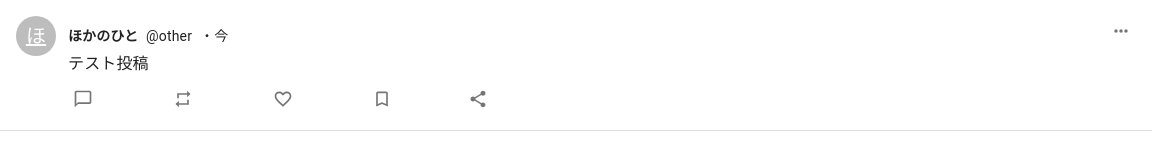
Test: PostCard › 他人の投稿のメニューには編集と削除が表示されない
Click the button with test id "post-menu-button" at (1121, 31), box [1106,16,1136,46]
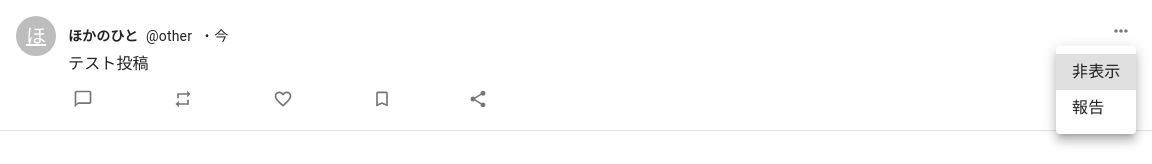
Check: the menu item "報告" is shown, box [1072,98,1104,117]
